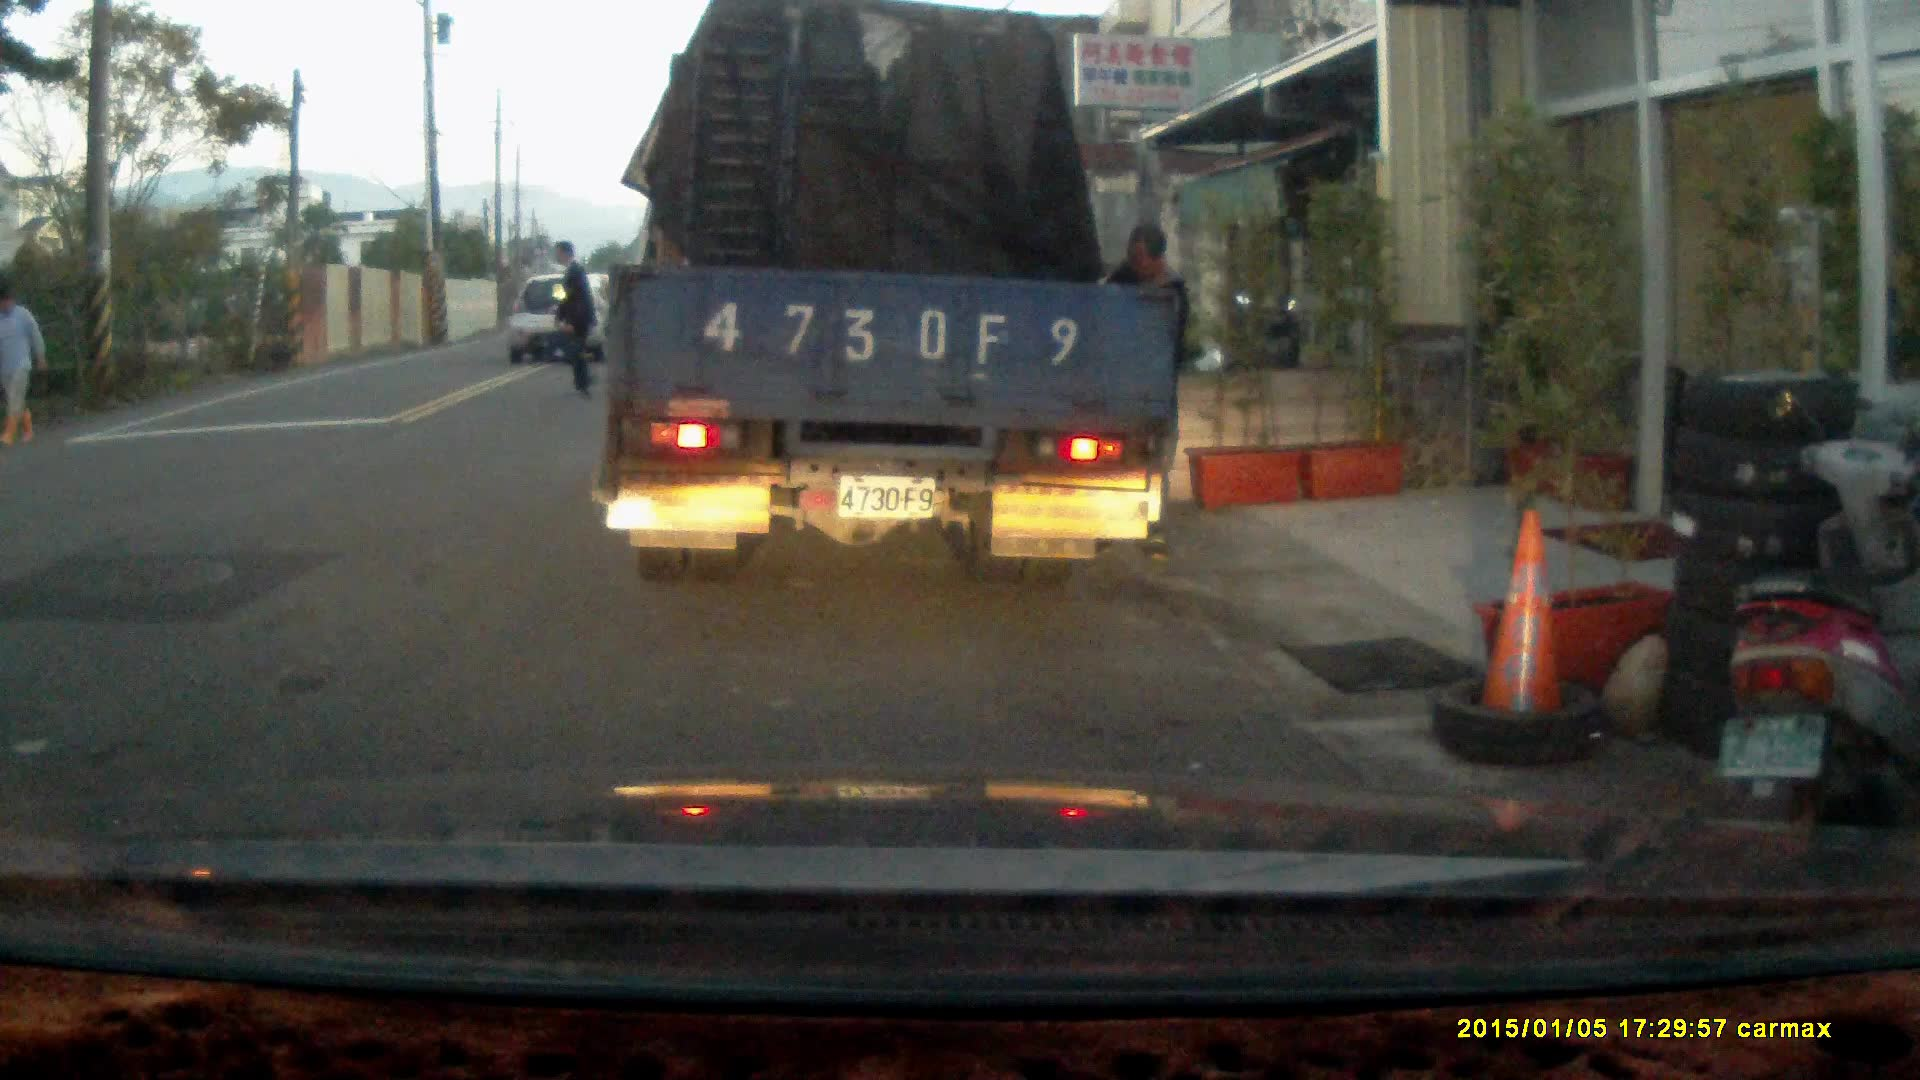pedestrian: (1082, 224, 1190, 564), (534, 240, 609, 409), (0, 287, 43, 450)
vehicle: (604, 23, 1187, 572), (504, 263, 613, 363)
